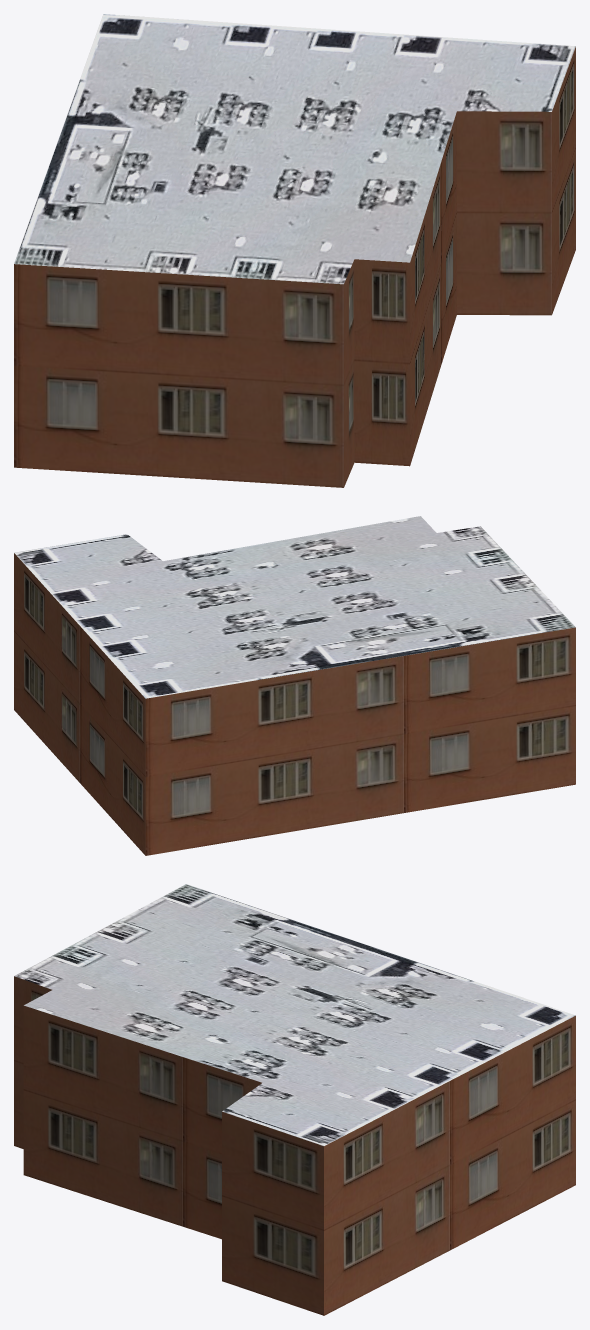
Rendered from ResTex__1230.fbx.
3 renders of one model, top to bottom at view 1: azimuth 30°, elevation 25°; view 2: azimuth 150°, elevation 25°; view 3: azimuth 270°, elevation 25°, orthographic. The views are drawn at different scales.
Parts seen in each view (by area): view 1: CityEngineMaterial_20_m, CityEngineMaterial_8_m; view 2: CityEngineMaterial_20_m, CityEngineMaterial_8_m; view 3: CityEngineMaterial_20_m, CityEngineMaterial_8_m.
Part boxes in pixels (x1,y1,x2,y2): CityEngineMaterial_20_m: [14, 47, 575, 487]; CityEngineMaterial_8_m: [14, 14, 575, 284]; CityEngineMaterial_20_m: [14, 553, 575, 855]; CityEngineMaterial_8_m: [14, 516, 575, 698]; CityEngineMaterial_20_m: [14, 976, 575, 1315]; CityEngineMaterial_8_m: [14, 884, 575, 1145].
Bounding box in the file's own units: 19.89 × 6 × 18.01.
Materials: 2 (2 with a texture image).
